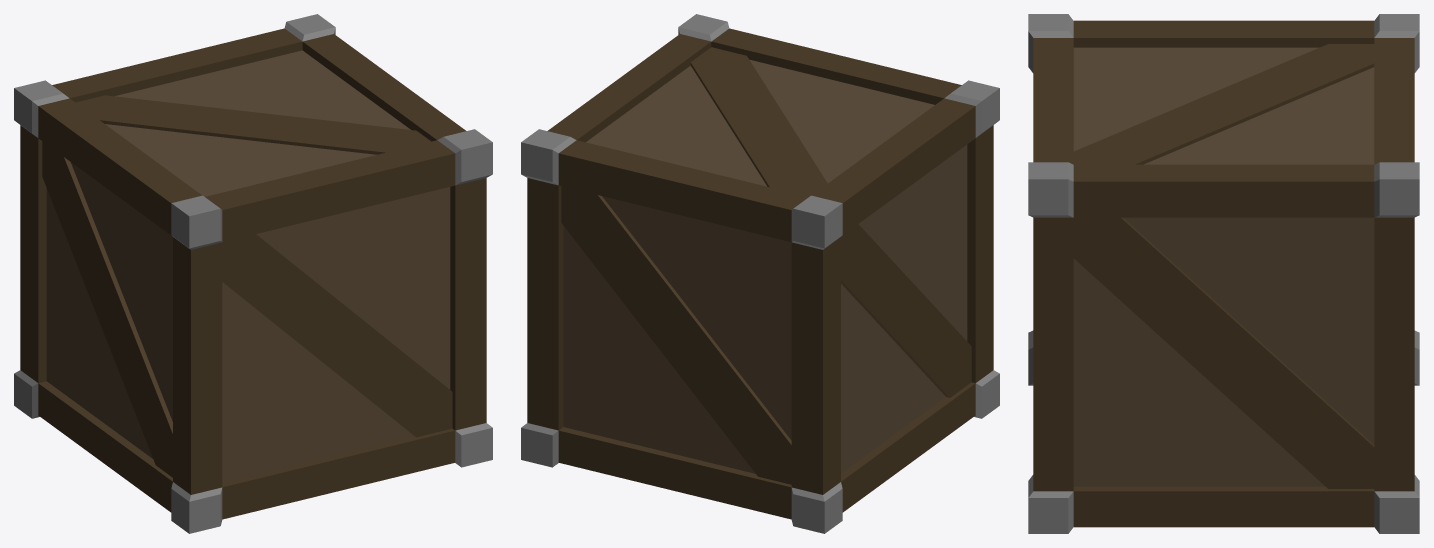
3 views of the same model, side by side, from view 1: azimuth 30°, elevation 25°; view 2: azimuth 150°, elevation 25°; view 3: azimuth 270°, elevation 25° (orthographic). The views are drawn at different scales.
Parts seen in each view (by area): view 1: Cube.024; view 2: Cube.024; view 3: Cube.024.
Part boxes in pixels (x1=…): Cube.024: x1=14, y1=14, x2=492, y2=533; Cube.024: x1=521, y1=14, x2=999, y2=533; Cube.024: x1=1028, y1=14, x2=1419, y2=533.
Size of the model in its own units: 205 by 205 by 205.
